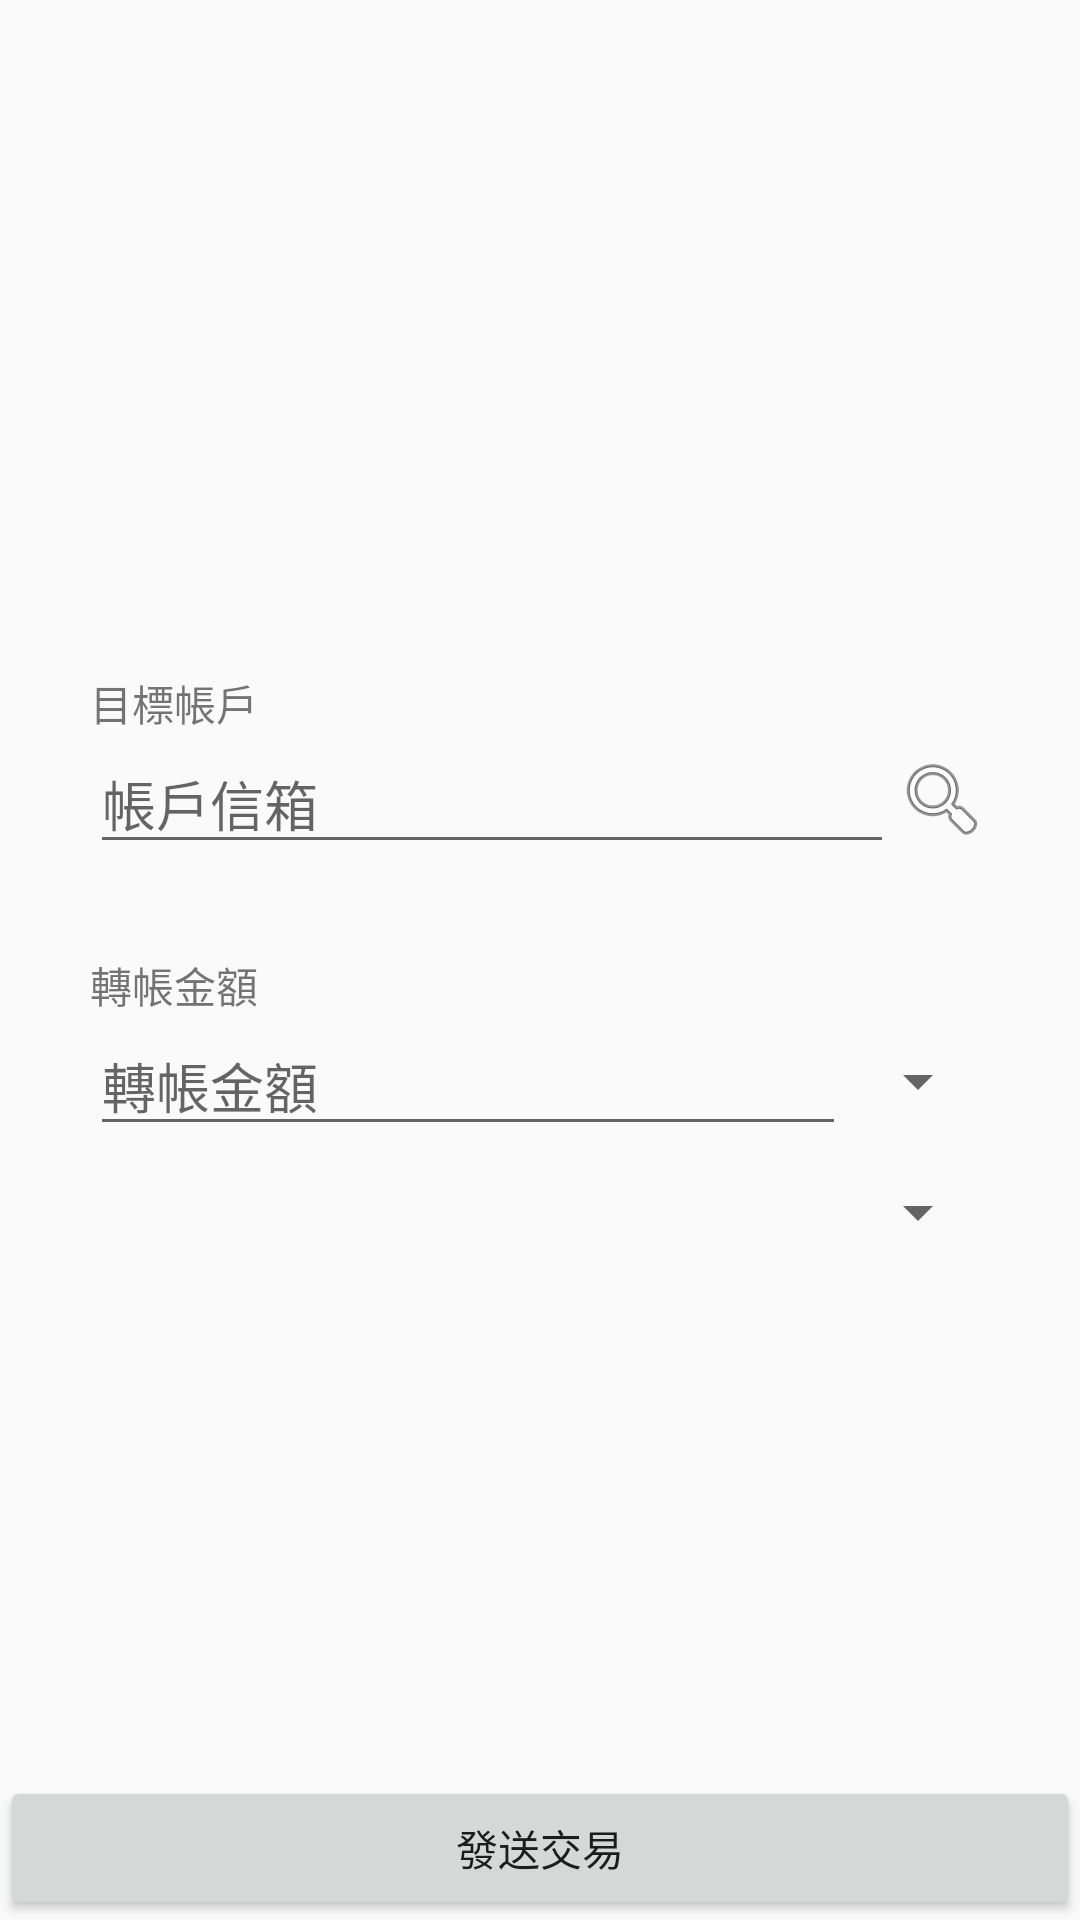

Named icons in this screenshot (1080w x 1920h) and their bounding boxes, (x1, y1, x2, y2):
search: (906, 764, 978, 835)
